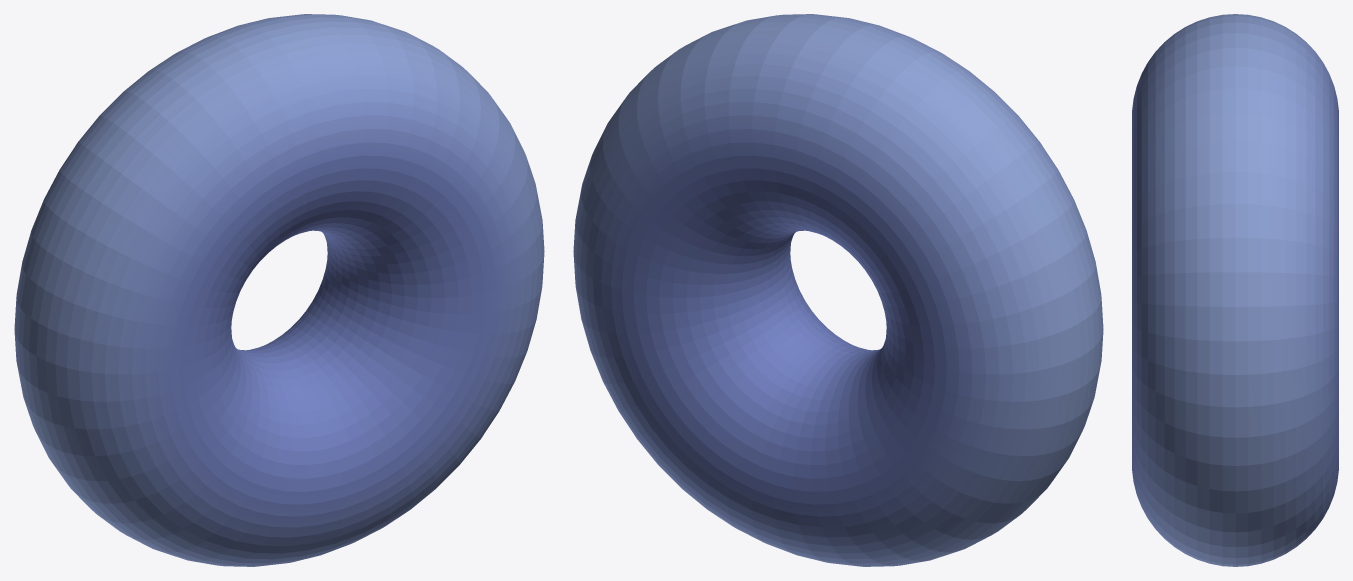
3 views of the same model, side by side, from view 1: azimuth 30°, elevation 25°; view 2: azimuth 150°, elevation 25°; view 3: azimuth 270°, elevation 25° (orthographic). The views are drawn at different scales.
Parts seen in each view (by area): view 1: world; view 2: world; view 3: world.
Part boxes in pixels (x1,y1,x2,y2): world: [14, 14, 544, 566]; world: [573, 14, 1103, 566]; world: [1132, 14, 1338, 566].
Bounding box in the file's own units: 16 × 15.97 × 5.99.
